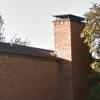Chimney: (45, 7, 93, 58)
